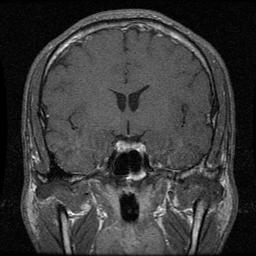Pituirity_tumour: (114, 139, 146, 153)
